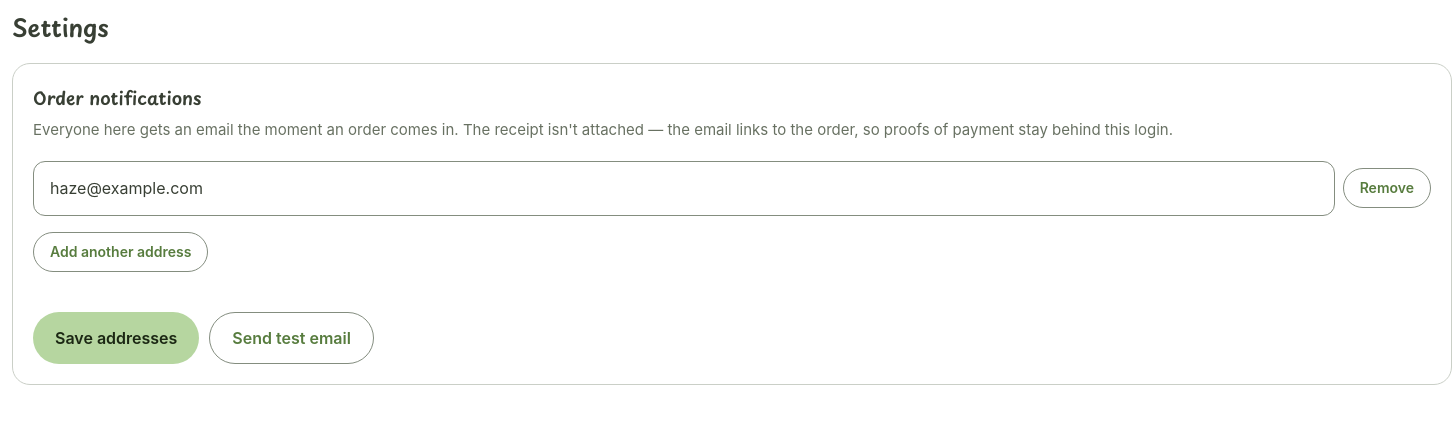
the test email › shows the provider's own reason when the send is refused
Expected: the field showing "haze@example.com" is shown, x1=33 y1=161 x2=1335 y2=216
Click the button "Send test email".
click(292, 338)  # box x1=209 y1=312 x2=374 y2=364
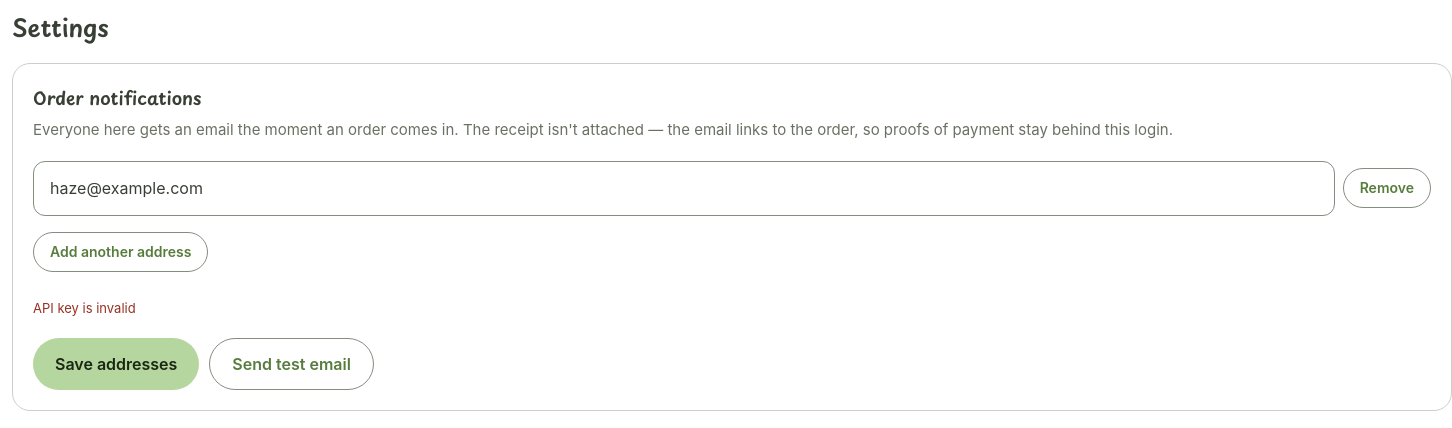
Now the text "API key is invalid" is shown, box x1=33 y1=300 x2=136 y2=316
